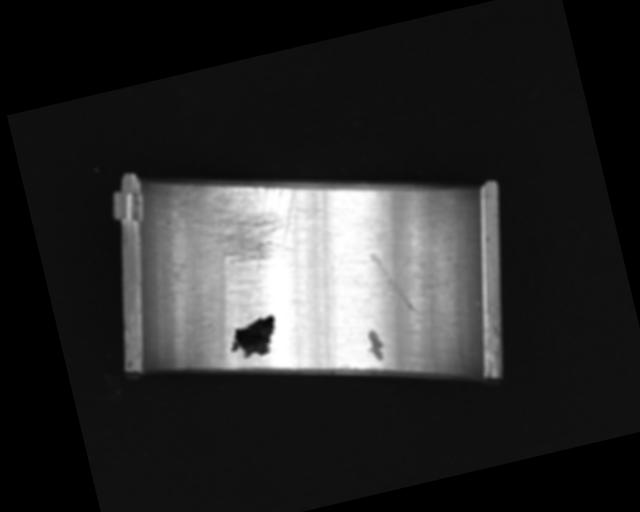blot: (224, 313, 283, 364)
bruise: (363, 327, 388, 364)
nick: (304, 244, 353, 367), (368, 244, 419, 323)
scratch: (173, 159, 313, 289)
